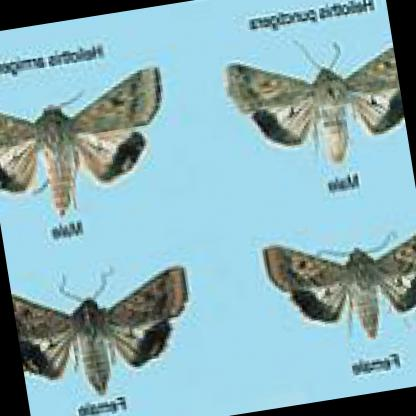helicoverpa: (0, 65, 164, 217), (13, 266, 185, 398), (223, 47, 402, 159), (264, 230, 416, 338)
